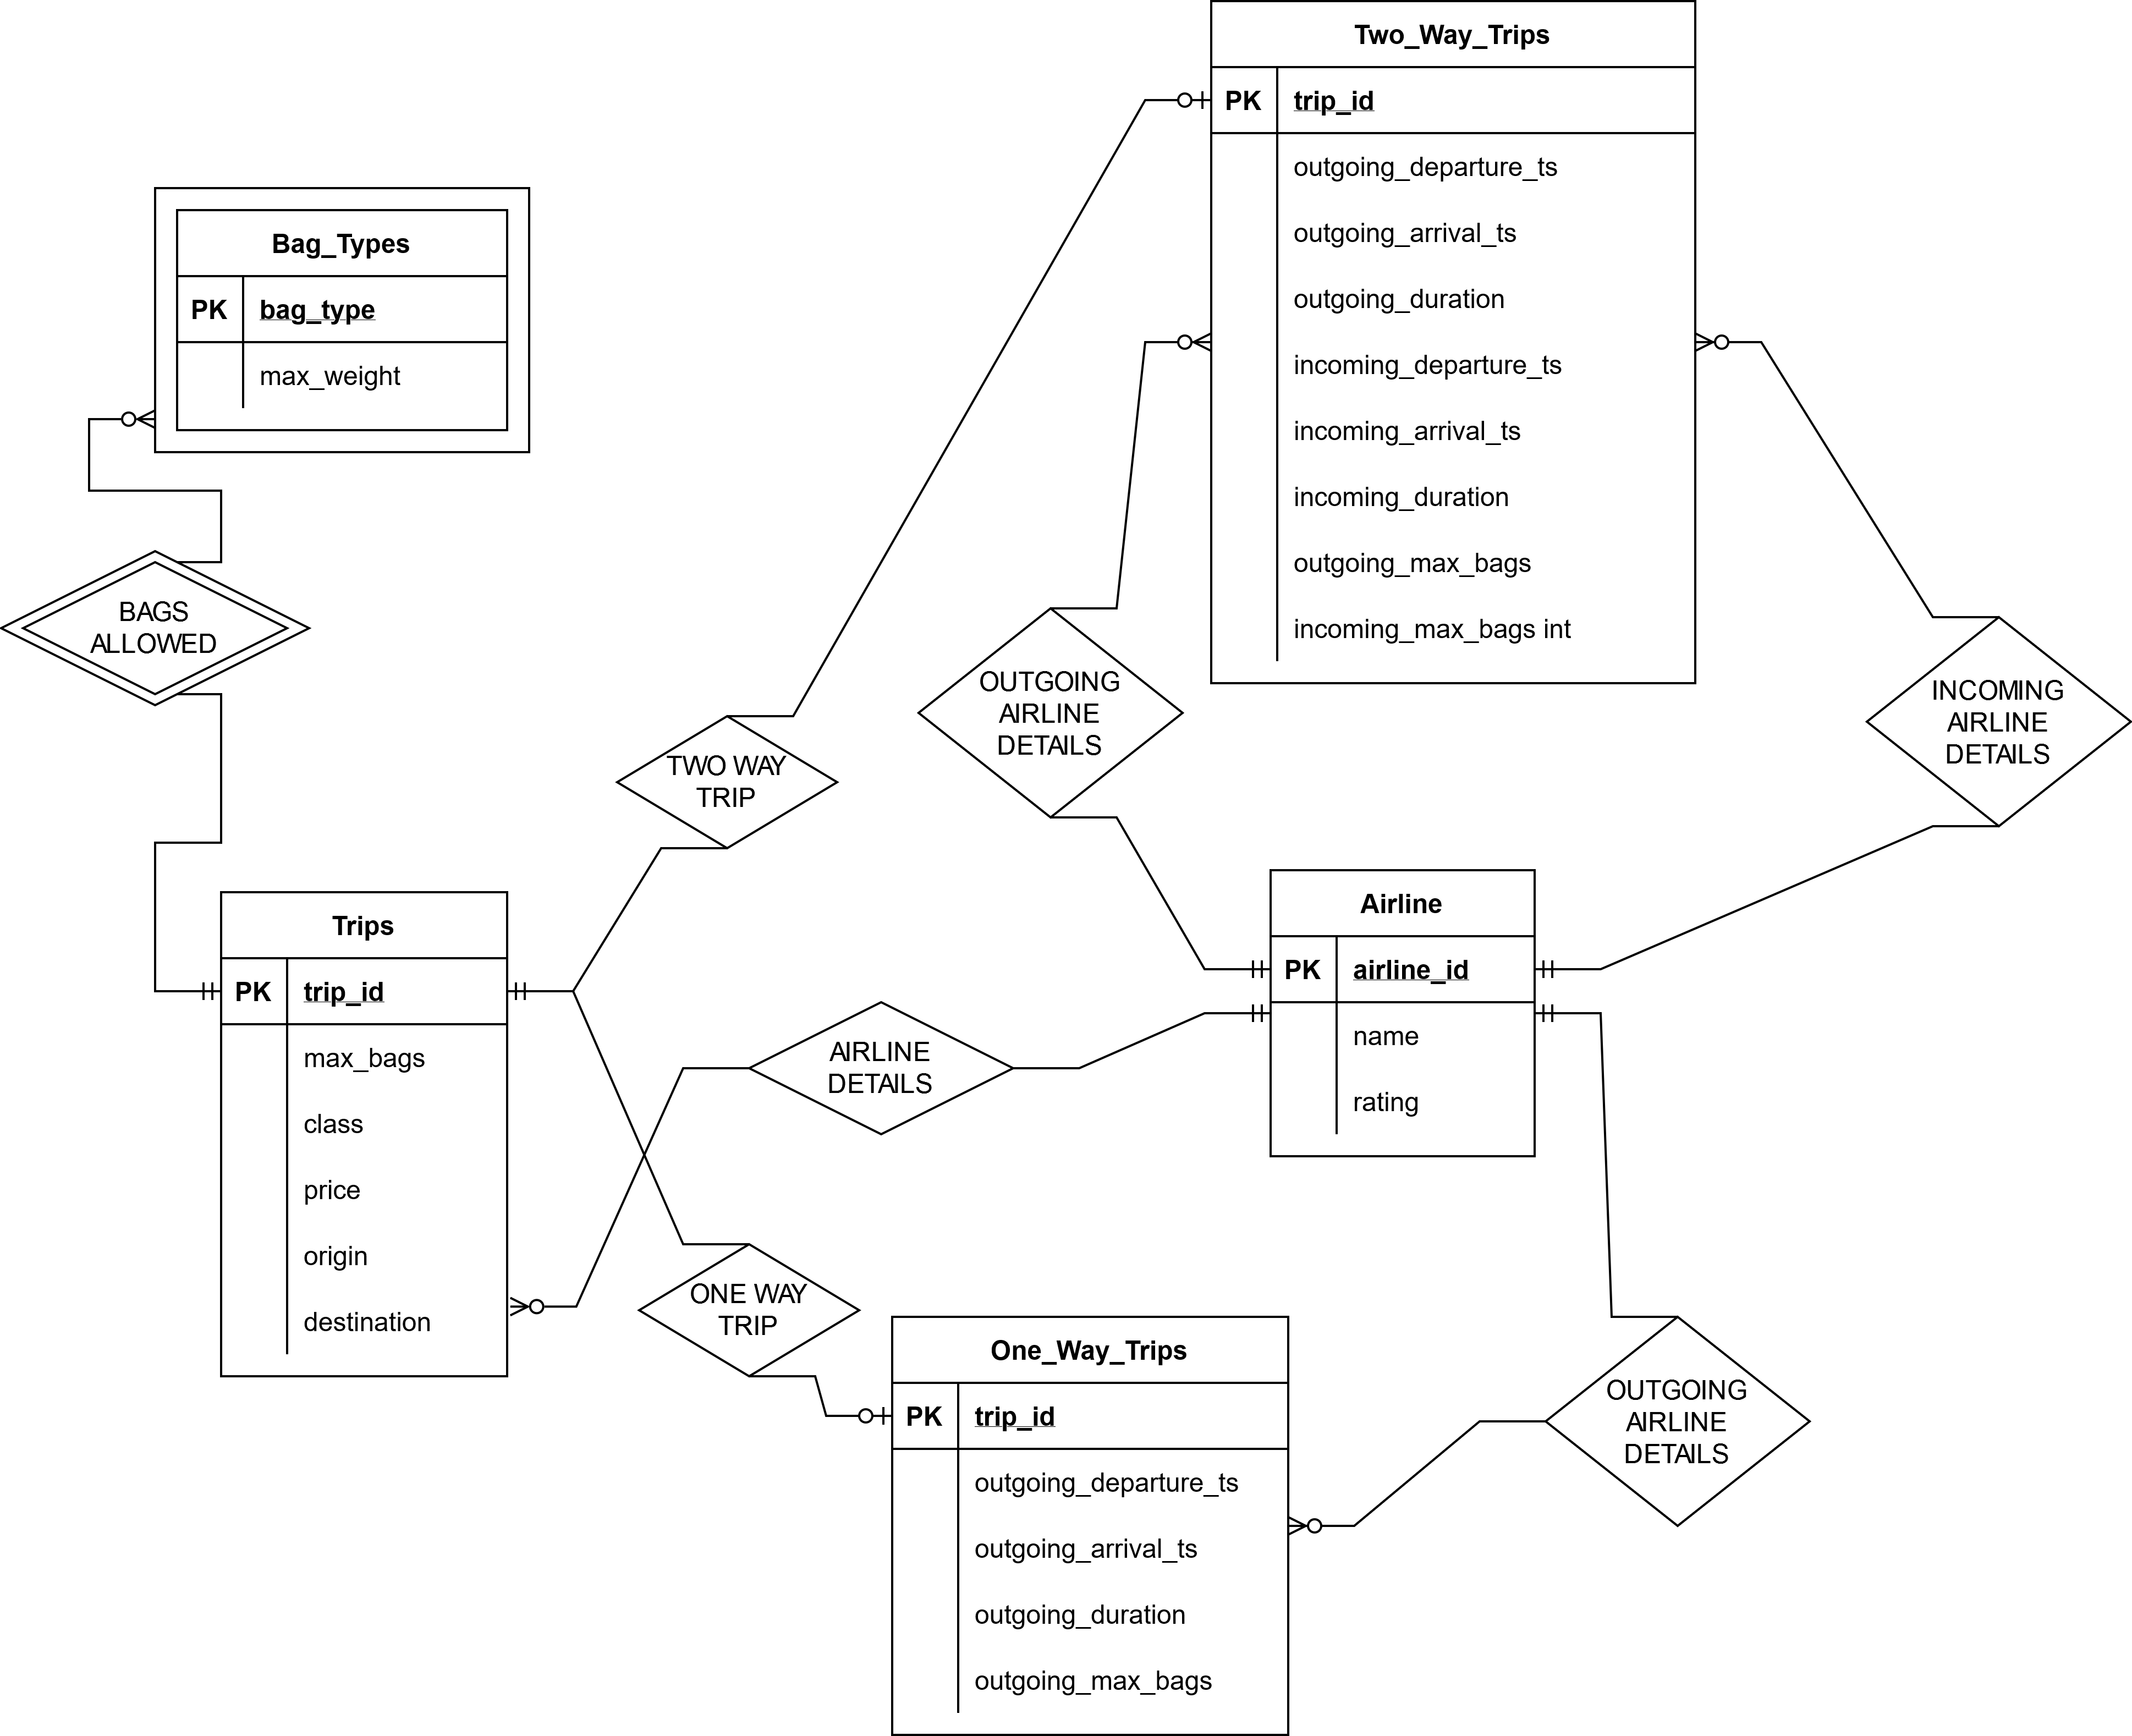entity: (1209, 0, 1700, 680), (891, 1314, 1291, 1736), (218, 896, 510, 1382), (1271, 870, 1539, 1164)
ident_rel: (0, 549, 315, 707)
many: (87, 407, 158, 434), (1695, 329, 1760, 358), (1146, 331, 1215, 358), (1286, 1513, 1355, 1539), (505, 1297, 577, 1320)
one: (825, 1405, 892, 1430), (1204, 1003, 1271, 1027), (1539, 1003, 1603, 1027), (1146, 89, 1209, 113), (1537, 958, 1599, 981), (508, 981, 572, 1003), (156, 981, 220, 1001), (1208, 960, 1271, 980)
rel: (1865, 615, 2132, 829), (923, 606, 1185, 820), (1542, 1320, 1810, 1523), (751, 1001, 1015, 1134), (641, 1244, 859, 1380), (620, 717, 839, 850)
weak_entity: (152, 184, 531, 450)
